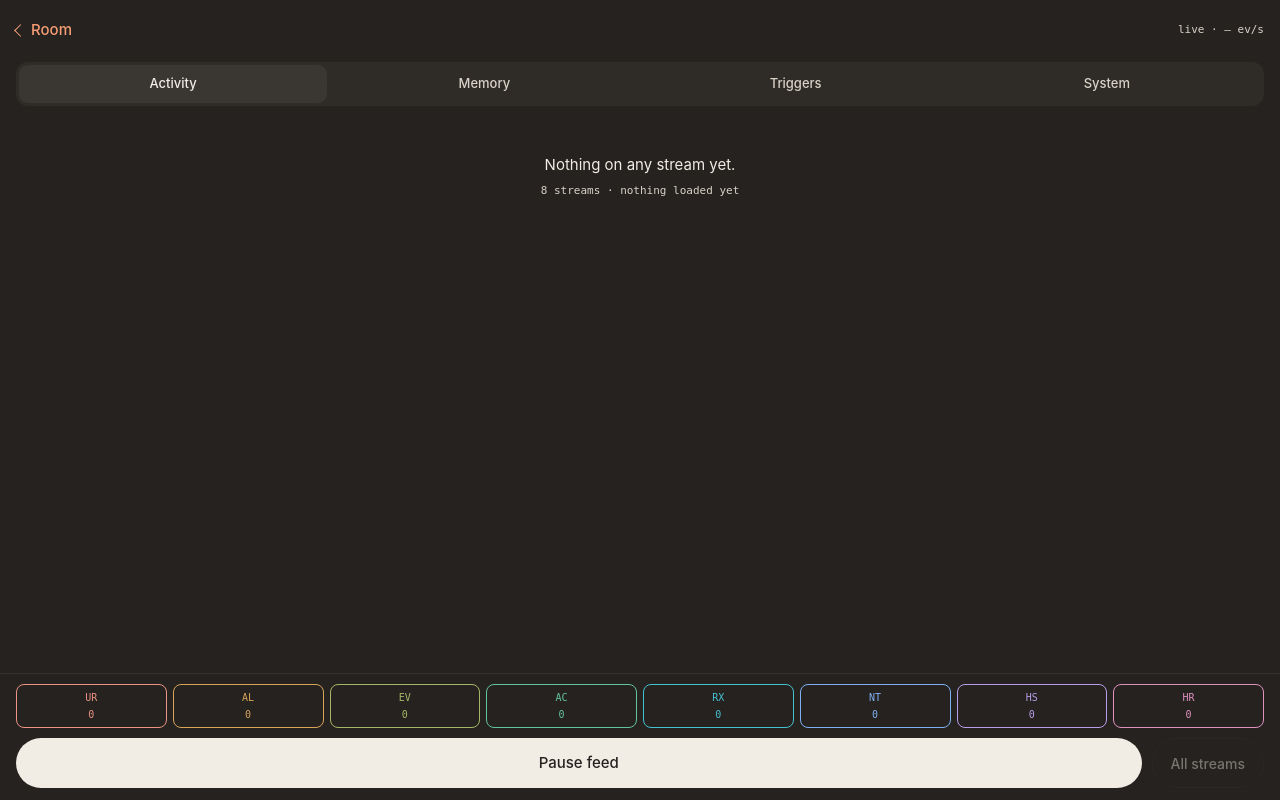
Test: Workshop › leaves each bench its own read-error region, and puts the refusal in it
This screenshot has width=1280, height=800.
Click the tab "System".
click(1107, 84)  # box 953,65 -> 1261,103
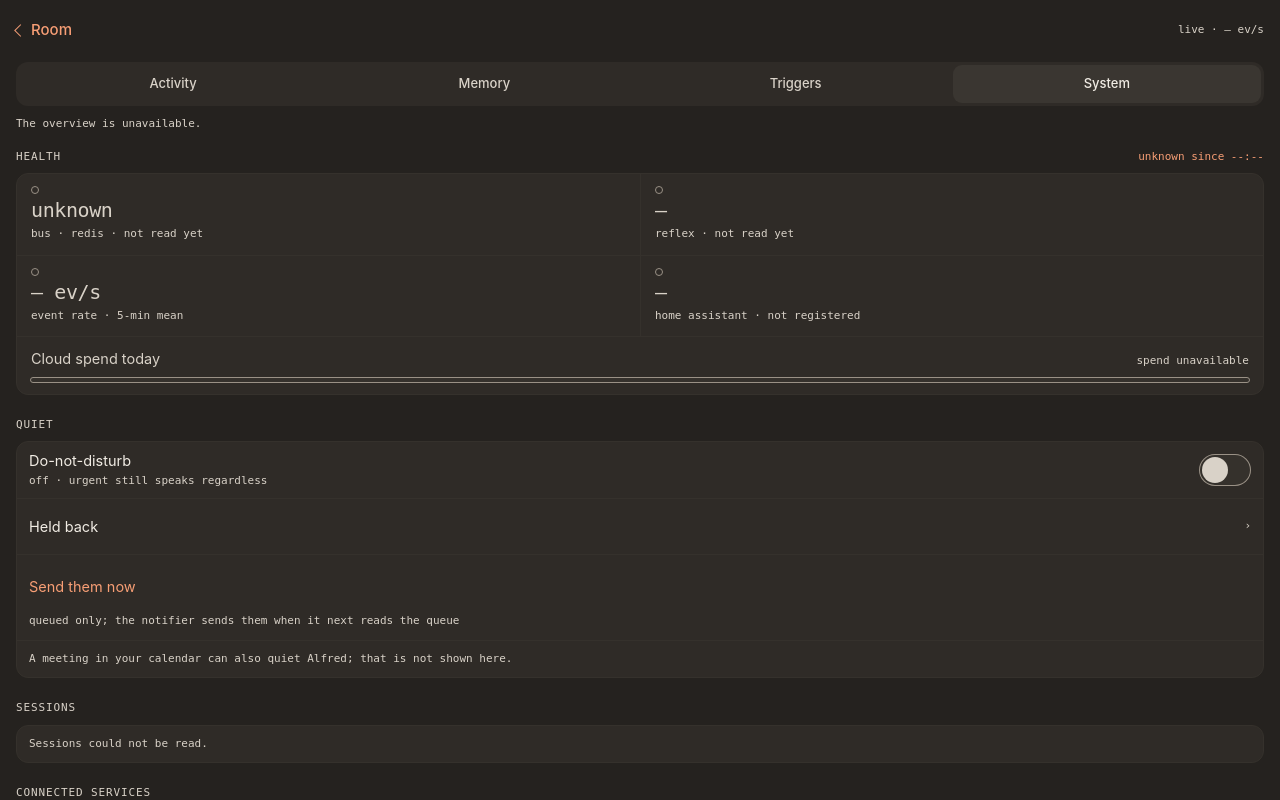
Check: the message named "Read errors" reads "The overview is unavailable.", box 16,117 -> 201,130
